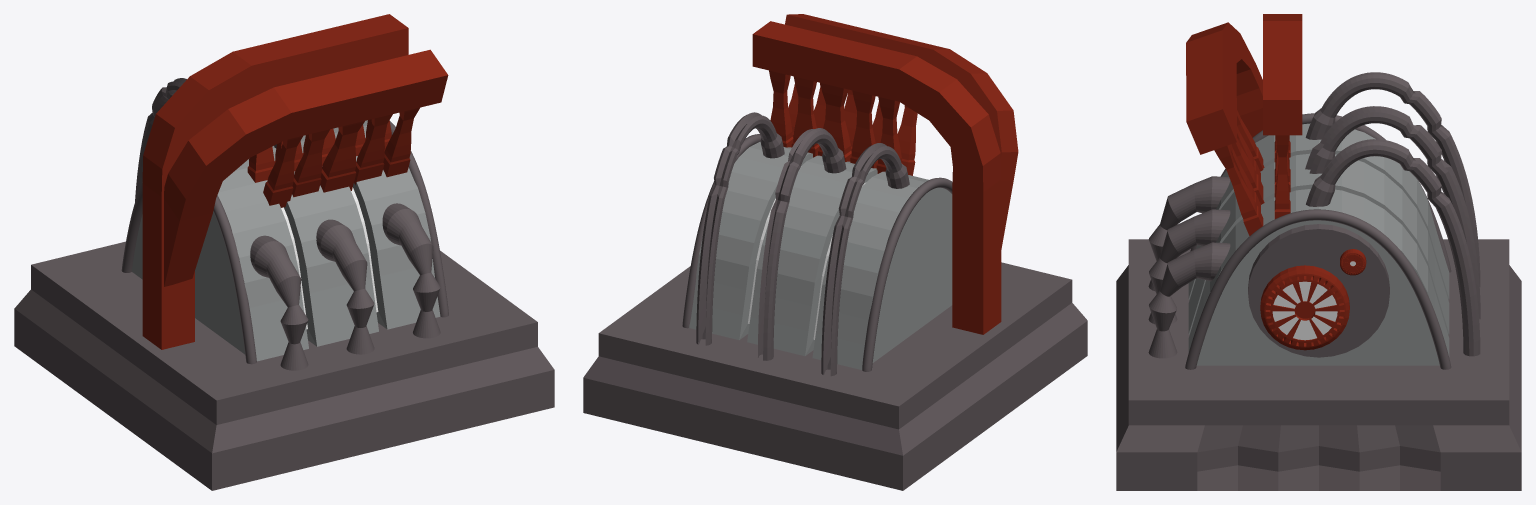
The model's file is FurnaceLevel8.fbx.
The picture shows the model from 3 angles, left to right: view 1: azimuth 30°, elevation 25°; view 2: azimuth 150°, elevation 25°; view 3: azimuth 270°, elevation 25°; orthographic projection. The views are drawn at different scales.
Visible parts, largest first — view 1: Cube, Cube.002, Cylinder, Cube.001, Cylinder.003, Cylinder.005, Cylinder.004, NurbsPath.001, NurbsPath, NurbsPath.003; view 2: Cube, Cylinder, Cube.001, Cube.002, NurbsPath.004, NurbsPath.003, NurbsPath.002, NurbsPath.001, NurbsPath; view 3: Cube, Cylinder, Cube.002, Cylinder.001, Cube.001, Cylinder.006, NurbsPath.004, NurbsPath, NurbsPath.002, NurbsPath.003, Cylinder.005, Cylinder.003 (+3 smaller).
Part boxes in pixels (bbox=[...]): Cube: bbox=[14, 241, 554, 490]; Cube.002: bbox=[164, 49, 448, 286]; Cylinder: bbox=[132, 120, 440, 361]; Cube.001: bbox=[142, 14, 408, 349]; Cylinder.003: bbox=[316, 219, 374, 354]; Cylinder.005: bbox=[382, 203, 440, 338]; Cylinder.004: bbox=[250, 235, 308, 370]; NurbsPath.001: bbox=[121, 183, 256, 364]; NurbsPath: bbox=[390, 121, 448, 317]; NurbsPath.003: bbox=[135, 78, 186, 201]; Cube: bbox=[583, 262, 1087, 490]; Cylinder: bbox=[689, 141, 952, 369]; Cube.001: bbox=[752, 21, 1001, 334]; Cube.002: bbox=[785, 14, 1018, 249]; NurbsPath.004: bbox=[696, 112, 784, 345]; NurbsPath.003: bbox=[821, 143, 909, 376]; NurbsPath.002: bbox=[758, 128, 846, 360]; NurbsPath.001: bbox=[862, 177, 952, 371]; NurbsPath: bbox=[682, 134, 761, 328]; Cube: bbox=[1116, 239, 1521, 490]; Cylinder: bbox=[1188, 123, 1449, 365]; Cube.002: bbox=[1186, 22, 1264, 236]; Cylinder.001: bbox=[1248, 224, 1389, 357]; Cube.001: bbox=[1263, 14, 1302, 218]; Cylinder.006: bbox=[1260, 265, 1349, 350]; NurbsPath.004: bbox=[1306, 139, 1480, 356]; NurbsPath: bbox=[1185, 209, 1451, 369]; NurbsPath.002: bbox=[1305, 106, 1480, 319]; NurbsPath.003: bbox=[1305, 72, 1480, 286]; Cylinder.005: bbox=[1148, 242, 1230, 358]; Cylinder.003: bbox=[1148, 209, 1230, 324].
Bounding box in the file's own units: 2 × 1.93 × 2.
